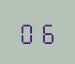six: (37, 20, 54, 44)
zero: (19, 20, 36, 44)
